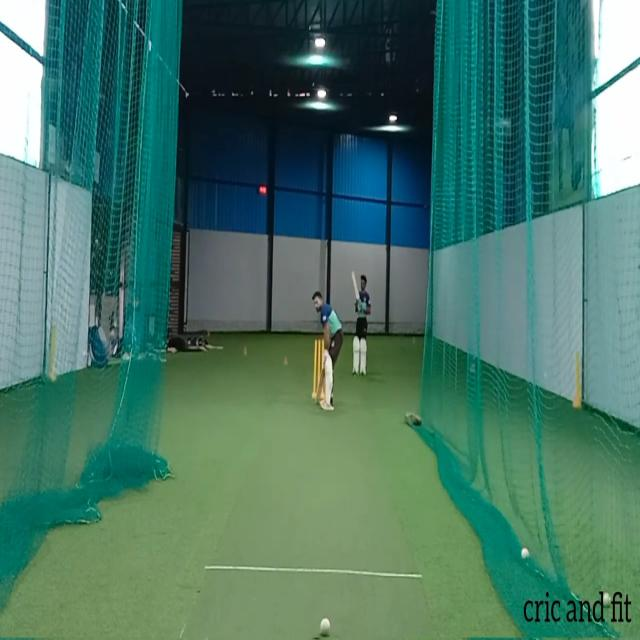batsman: (311, 290, 344, 412)
